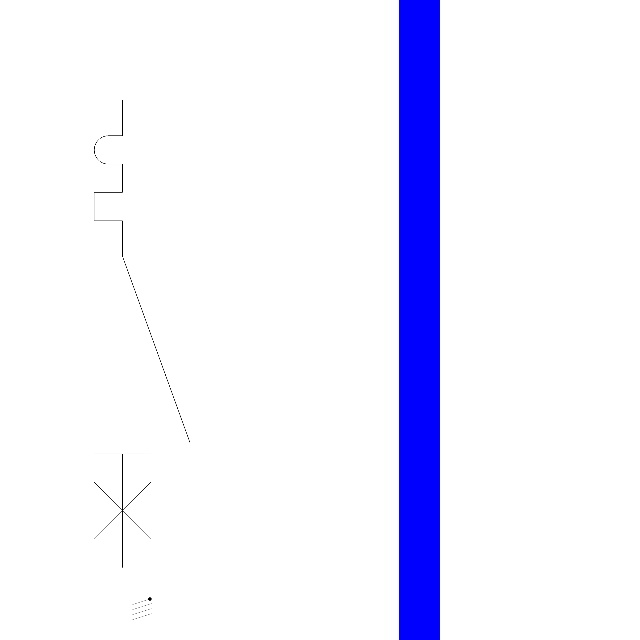interruptor_termomagnetico: (82, 88, 202, 579)
